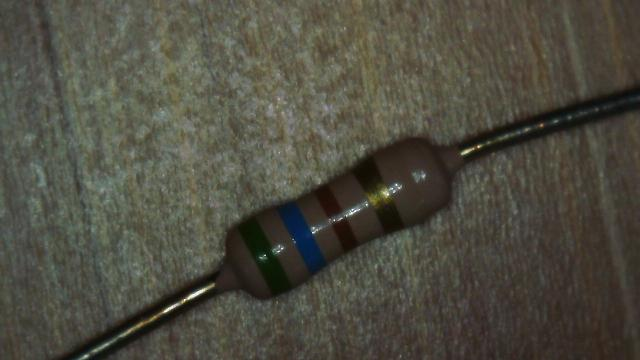blue: (278, 202, 326, 274)
brown: (314, 184, 358, 252)
gold: (352, 158, 402, 233)
green: (238, 218, 290, 295)
resistor: (183, 93, 491, 327)
